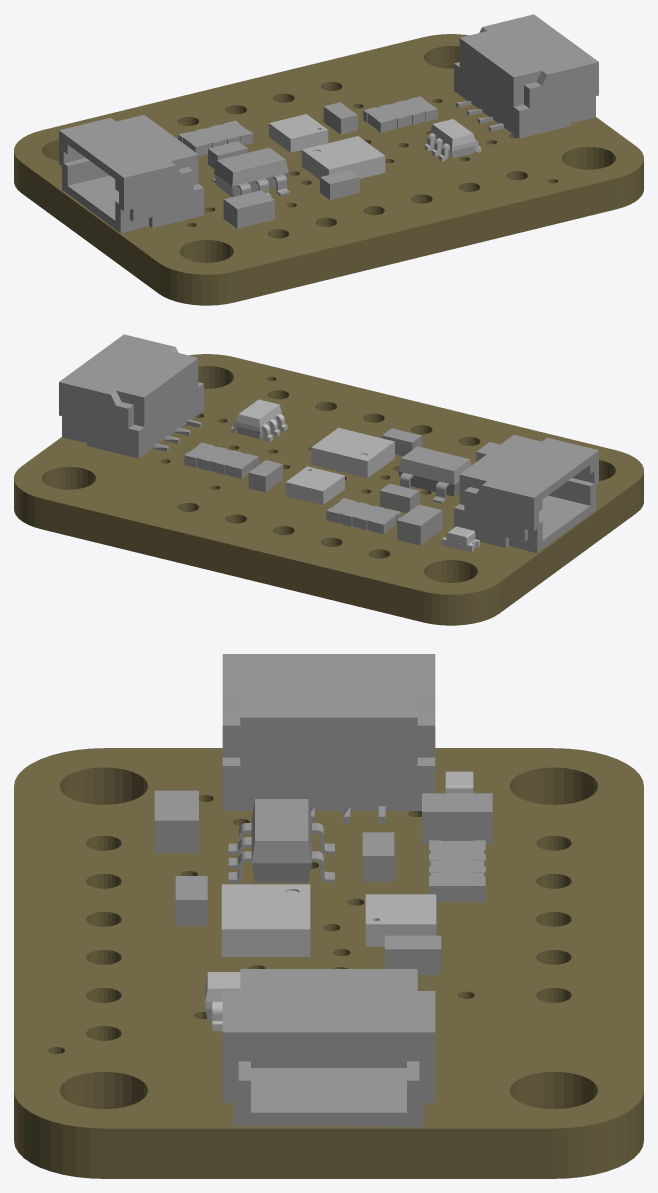
The model's file is adafruit-4517-lsm6dsox-lis3mdl.glb.
The picture shows the model from 3 angles, top to bottom: view 1: azimuth 30°, elevation 25°; view 2: azimuth 150°, elevation 25°; view 3: azimuth 270°, elevation 25°; orthographic projection. The views are drawn at different scales.
Visible parts, largest first — view 1: colour 1, colour 2, colour 4, colour 3; view 2: colour 1, colour 2, colour 4, colour 3; view 3: colour 1, colour 2, colour 4, colour 3.
Part boxes in pixels (x1,y1,x2,y2): colour 1: (14,34,643,305); colour 2: (59,14,598,233); colour 4: (269,114,385,179); colour 3: (424,119,481,161); colour 1: (14,354,643,625); colour 2: (59,334,598,553); colour 4: (285,427,479,552); colour 3: (230,399,287,441); colour 1: (14,748,643,1178); colour 2: (154,654,492,1127); colour 4: (221,771,473,956); colour 3: (205,972,240,1031).
Size of the model in its own units: 0.0254 by 0.00453 by 0.0178.
